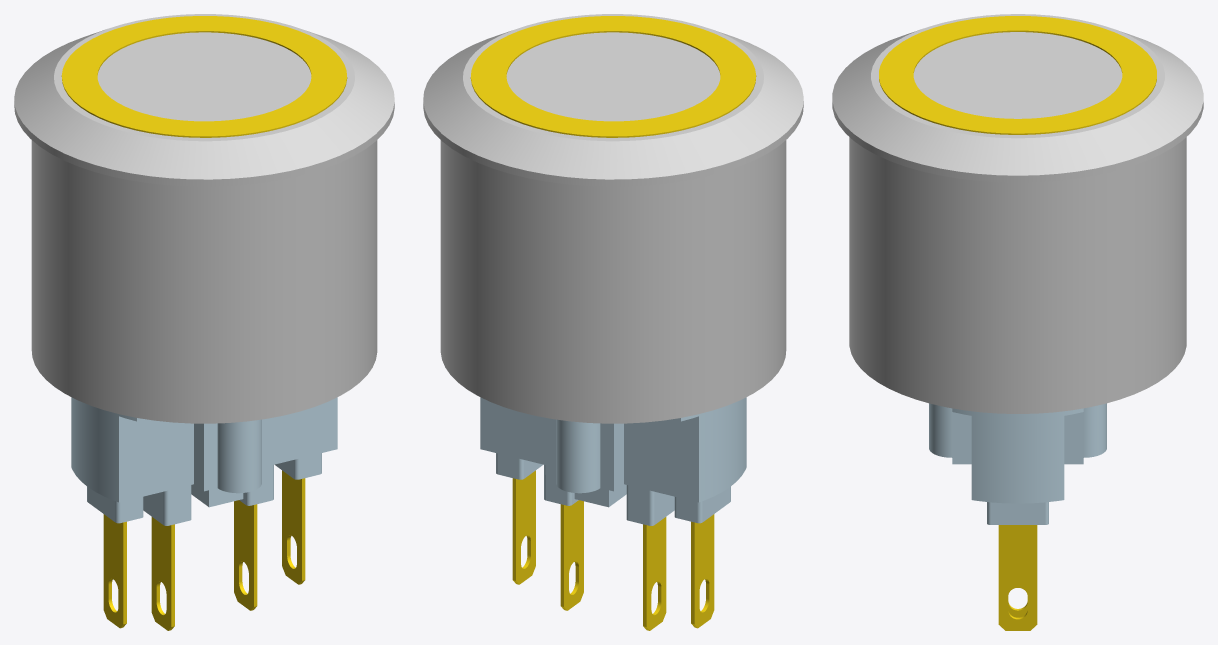
Rendered from push_button_yellow.dae.
The picture shows the model from 3 angles, left to right: view 1: azimuth 30°, elevation 25°; view 2: azimuth 150°, elevation 25°; view 3: azimuth 270°, elevation 25°; orthographic projection. The views are drawn at different scales.
Visible parts, largest first — view 1: Push Button - Yellow; view 2: Push Button - Yellow; view 3: Push Button - Yellow.
Boxes of the visible parts, x1,y1,x2,y2 form: Push Button - Yellow: (14, 14, 394, 630); Push Button - Yellow: (423, 14, 803, 630); Push Button - Yellow: (832, 14, 1203, 630).
Bounding box in the file's own units: 0.024 × 0.024 × 0.0376.
